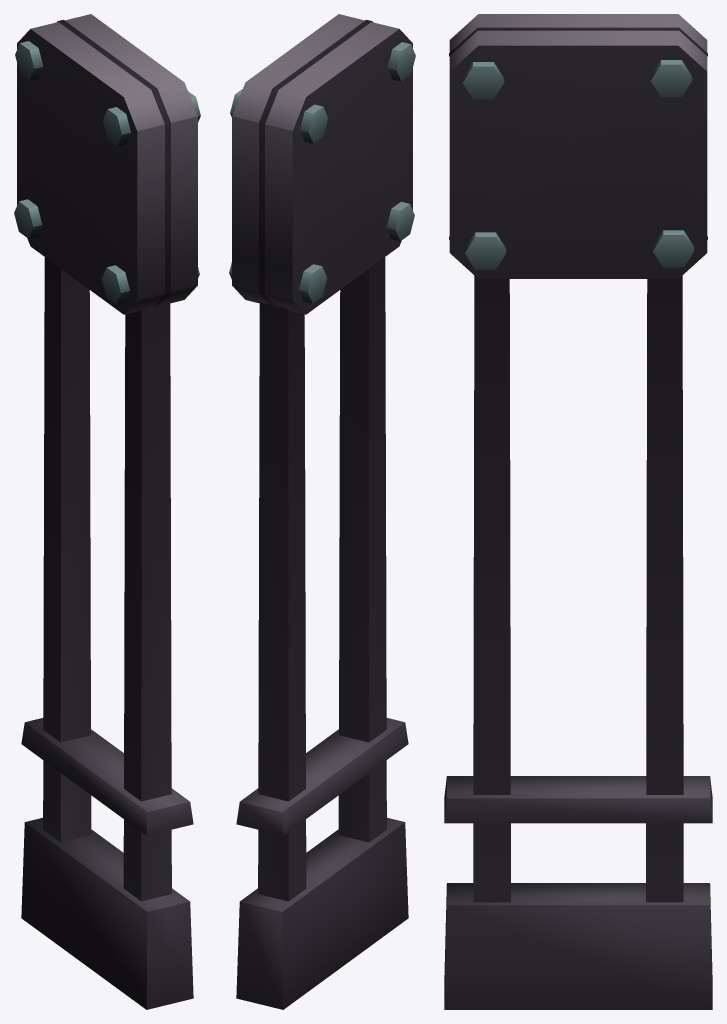
The model's file is Pipe_Support_2A.fbx.
The picture shows the model from 3 angles, left to right: view 1: azimuth 30°, elevation 25°; view 2: azimuth 150°, elevation 25°; view 3: azimuth 270°, elevation 25°; orthographic projection. The views are drawn at different scales.
Visible parts, largest first — view 1: Scaleable_Addon_2A, Pipe_Support_2A; view 2: Scaleable_Addon_2A, Pipe_Support_2A; view 3: Scaleable_Addon_2A, Pipe_Support_2A.
Part boxes in pixels (<box>): Scaleable_Addon_2A: <box>21,257,193,1009</box>; Pipe_Support_2A: <box>14,14,200,314</box>; Scaleable_Addon_2A: <box>236,257,408,1009</box>; Pipe_Support_2A: <box>229,14,415,314</box>; Scaleable_Addon_2A: <box>444,275,712,1009</box>; Pipe_Support_2A: <box>449,14,707,278</box>.
Bounding box in the file's own units: 0.5197 × 5.69 × 1.43.
